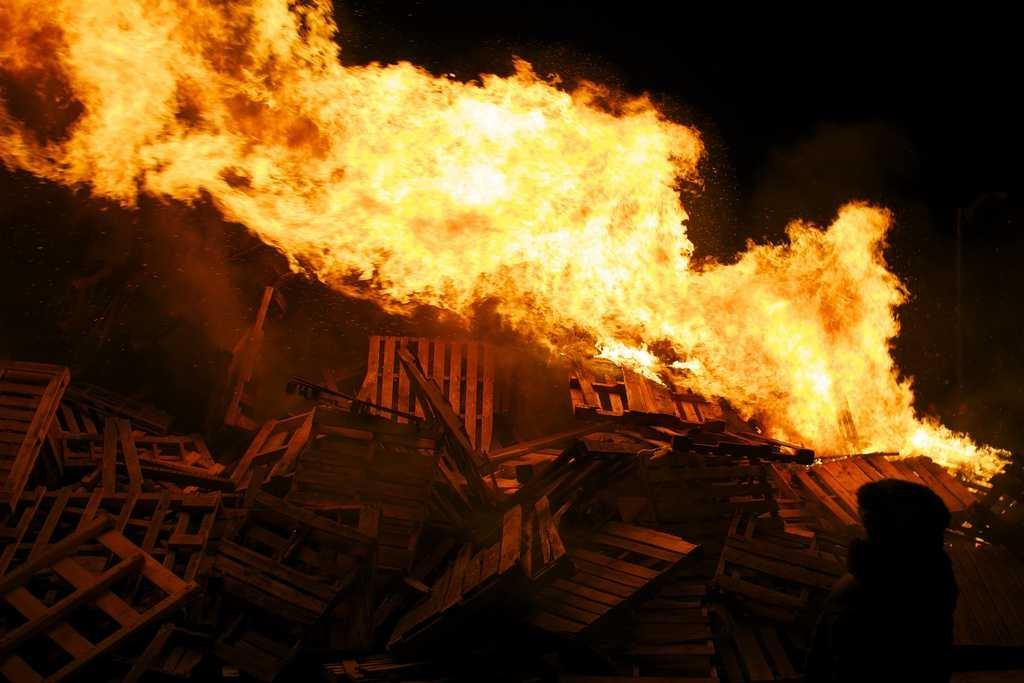fire: (352, 115, 662, 287), (92, 5, 300, 193), (710, 277, 898, 405)
